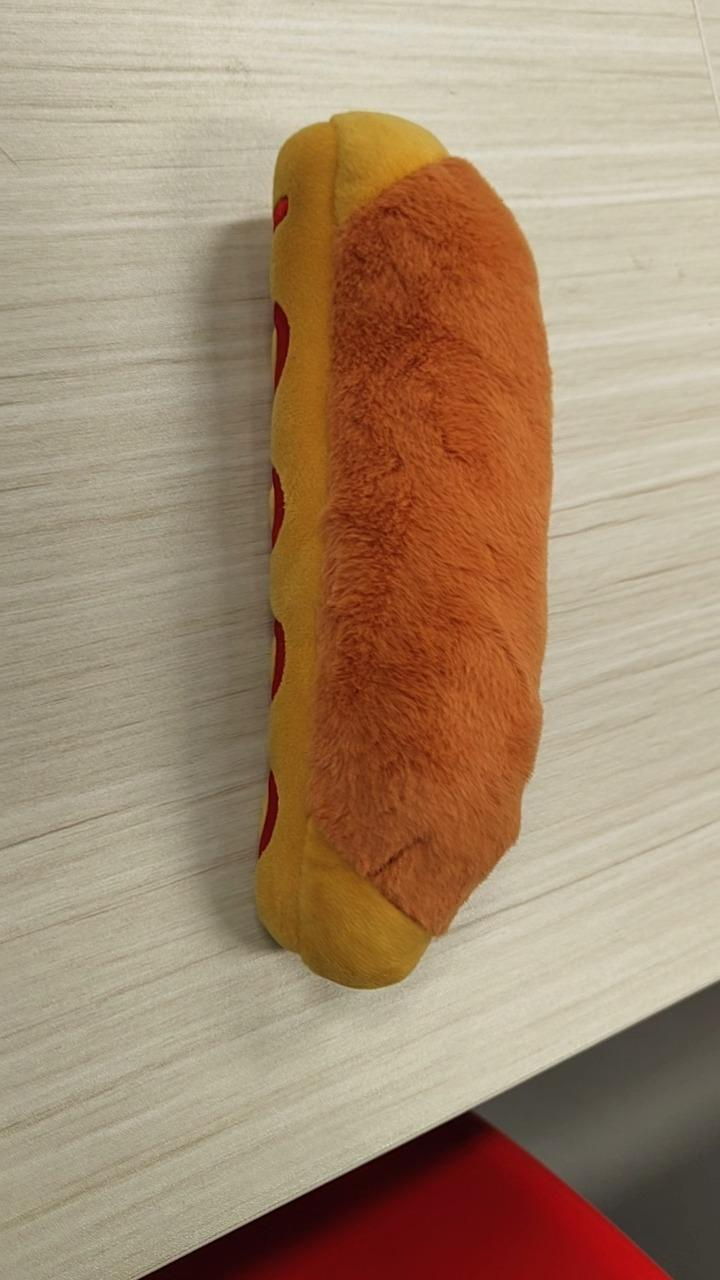hotdog: (253, 108, 554, 990)
